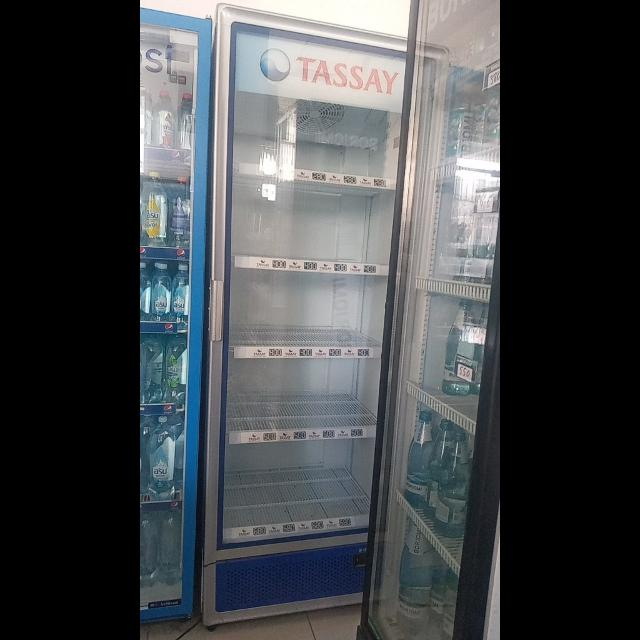Cooling-Display: (200, 2, 448, 626)
